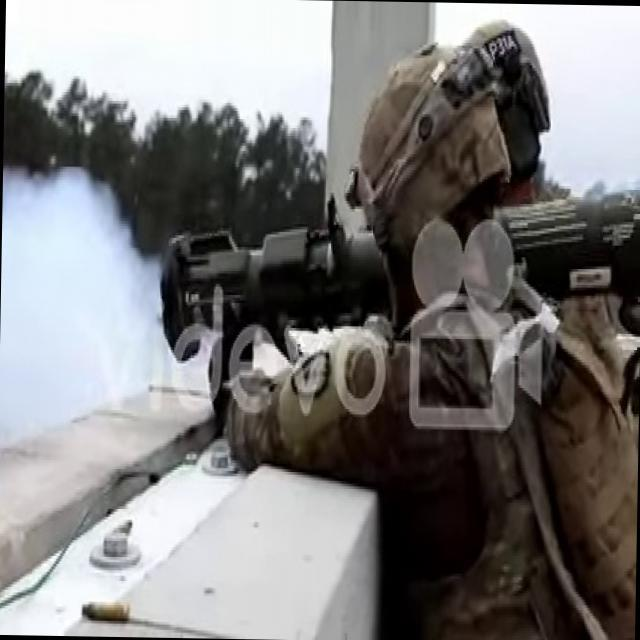rocket: (158, 181, 640, 376)
